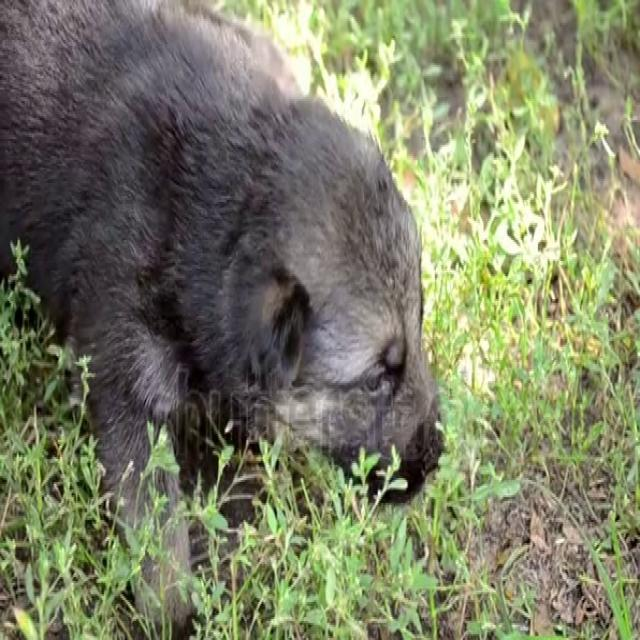normal_animals: (0, 0, 447, 638)
